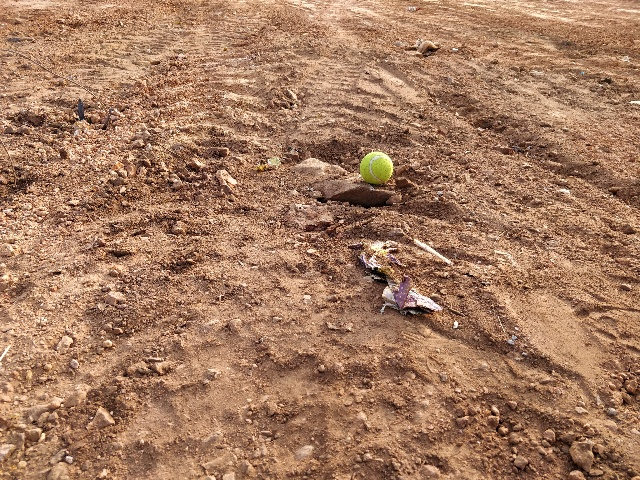ball: (358, 147, 400, 189)
